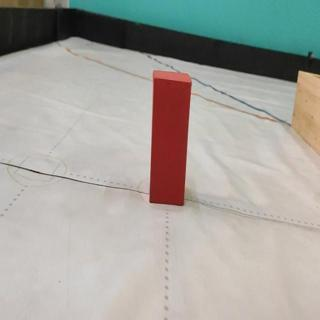redbox: (150, 69, 191, 206)
